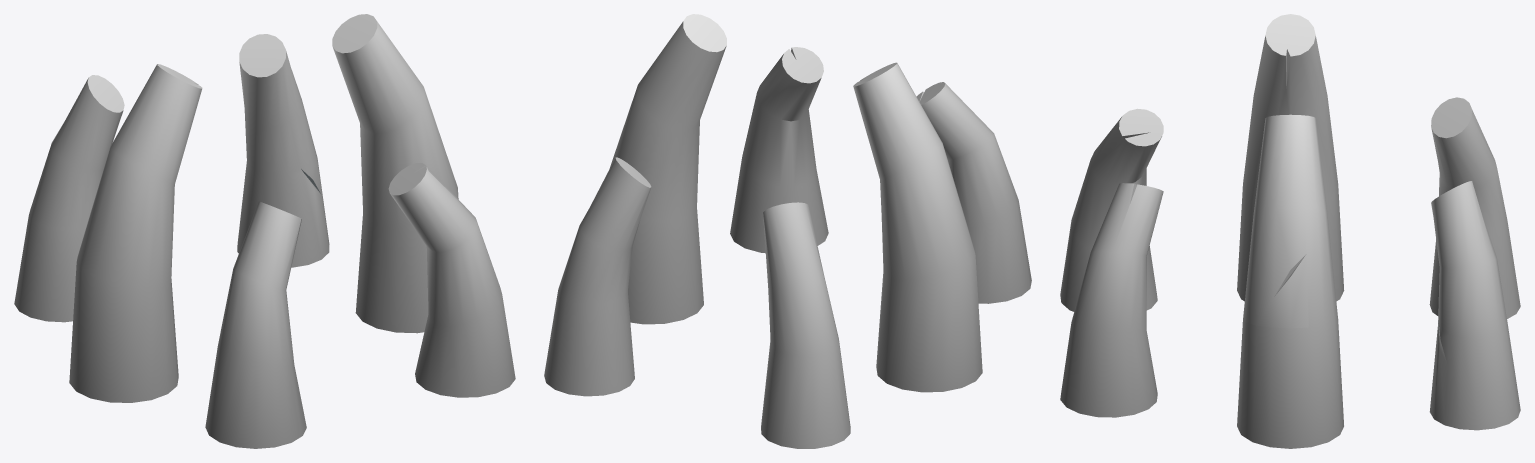
Rendered from Ossos.fbx.
3 renders of one model, left to right at view 1: azimuth 30°, elevation 25°; view 2: azimuth 150°, elevation 25°; view 3: azimuth 270°, elevation 25°, orthographic. The views are drawn at different scales.
Parts seen in each view (by area): view 1: Cylinder.001; view 2: Cylinder.001; view 3: Cylinder.001.
Part boxes in pixels (x1,y1,x2,y2): Cylinder.001: [14, 14, 515, 448]; Cylinder.001: [544, 14, 1031, 448]; Cylinder.001: [1060, 14, 1520, 448].
Bounding box in the file's own units: 238 × 180 × 256.
1 material, 1 textured.
